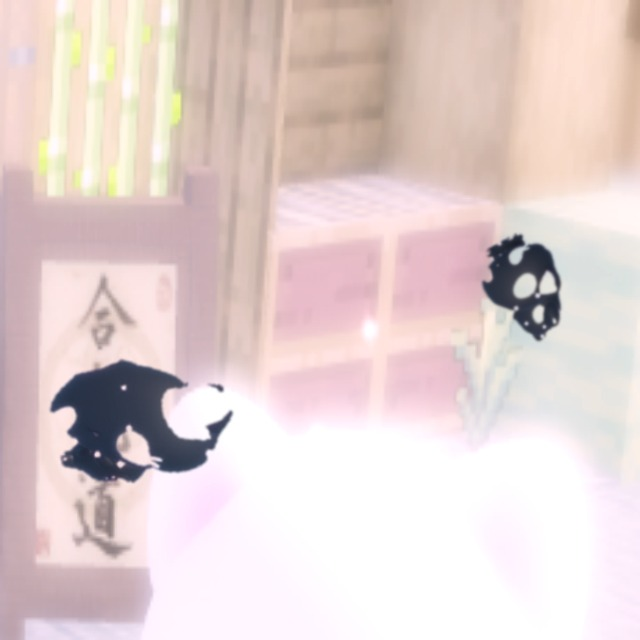urso_preto: (9, 322, 267, 521), (460, 221, 593, 363)
